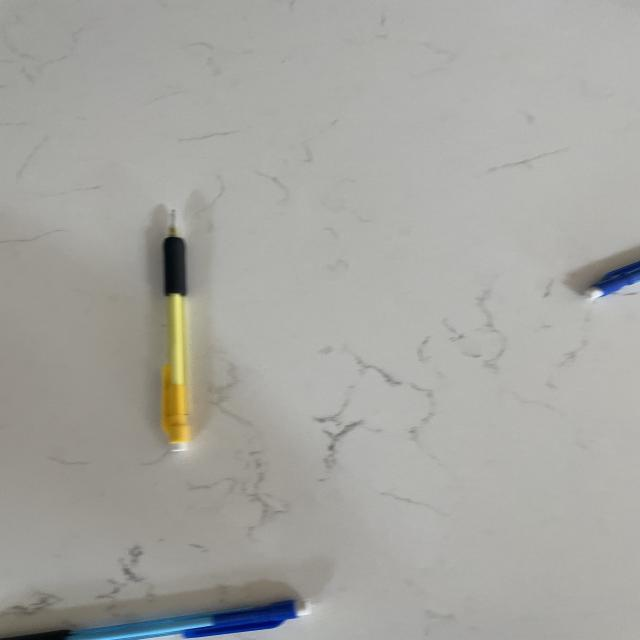mechanical-pencils: (19, 596, 313, 640), (153, 210, 195, 455), (577, 254, 637, 316)
